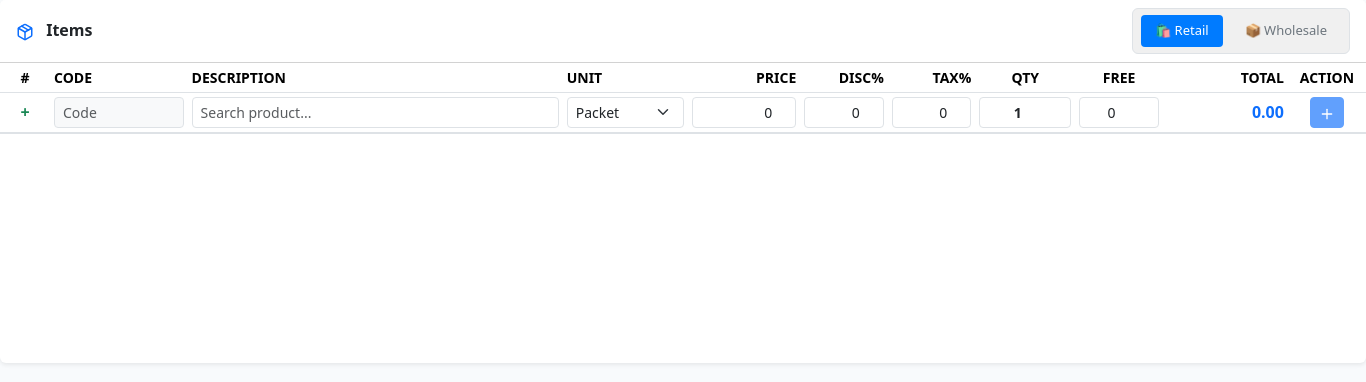
Test: ItemTable Component › Add to Cart › adds item to cart when all fields are valid
Select product
In the field with placeholder "Search product...": (375, 112) [192,96,559,128], type "Test"
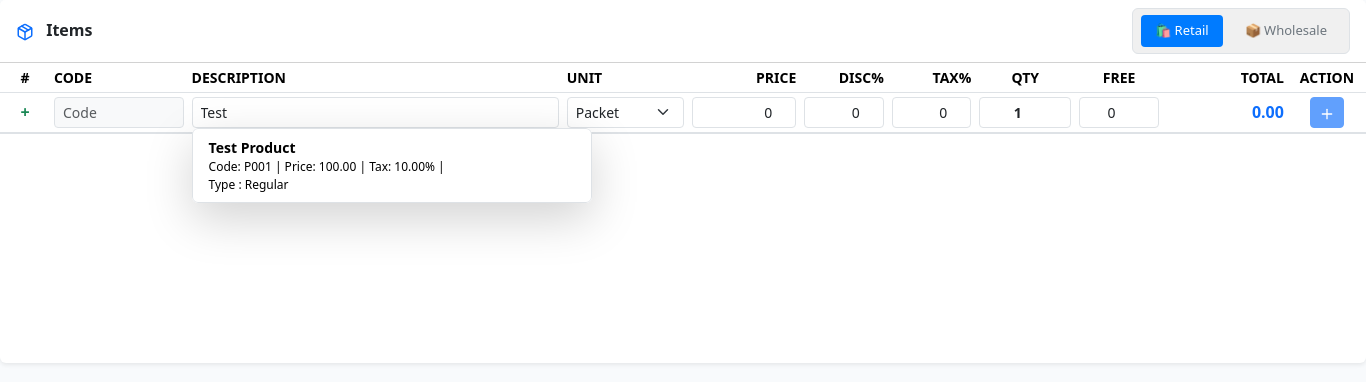
Click the text "Test Product": (252, 147) [209,138,296,156]
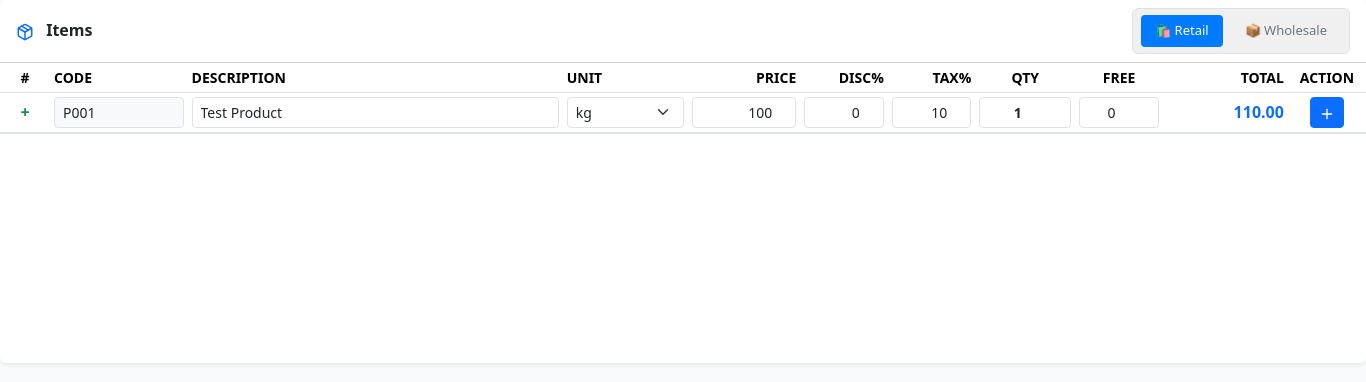
Expected: the button titled "Add to cart" is enabled, [1310,96,1344,128]
